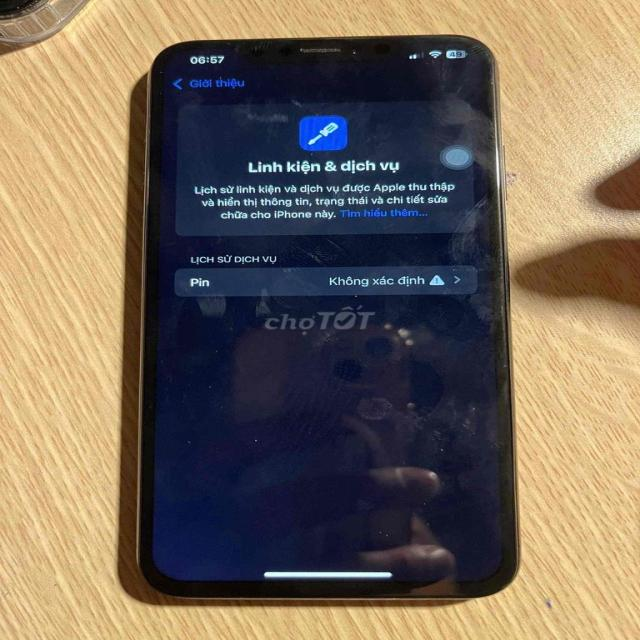scratch: (388, 491, 448, 540), (144, 352, 183, 419), (420, 438, 466, 470), (362, 515, 400, 547), (151, 58, 174, 110), (198, 329, 232, 362), (238, 426, 268, 451), (342, 38, 368, 62), (176, 433, 205, 454), (199, 381, 219, 398)
